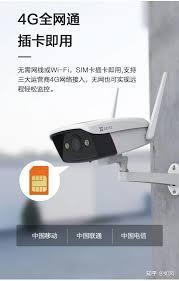tutu: (38, 98, 165, 169)
